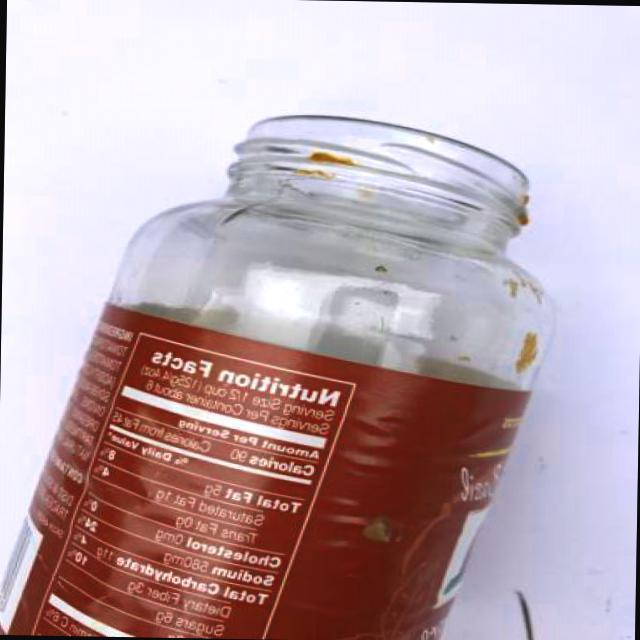ToplesKaca: (0, 112, 558, 638)
